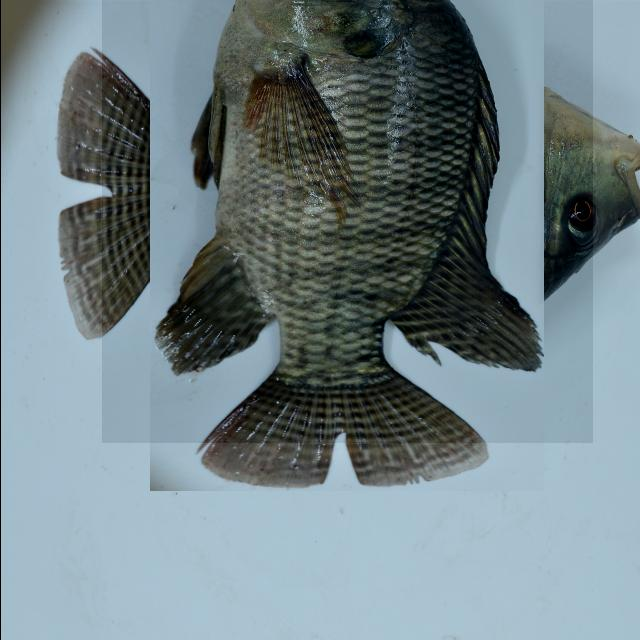Healthy Fish: (101, 0, 592, 443)
